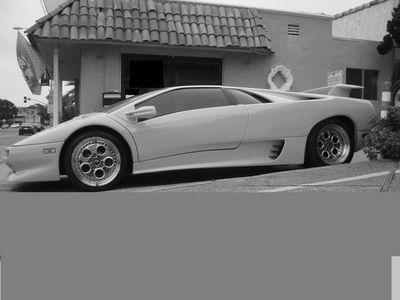car: (2, 82, 381, 187)
